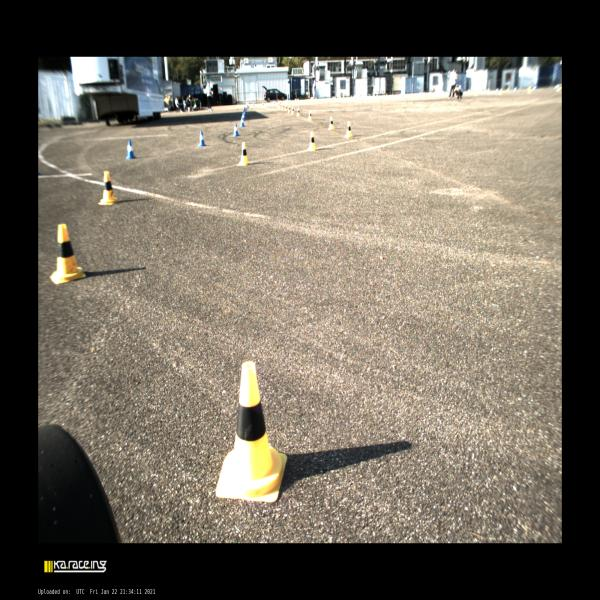blue_cone: (125, 140, 136, 159), (198, 130, 206, 146), (232, 123, 240, 136), (240, 117, 245, 127), (242, 113, 244, 121)
yellow_cone: (216, 361, 288, 503), (50, 224, 85, 284), (98, 171, 118, 204), (237, 142, 250, 166), (307, 132, 316, 151), (344, 121, 352, 138), (328, 116, 334, 130), (308, 110, 312, 121), (296, 108, 300, 116), (290, 107, 294, 114)
